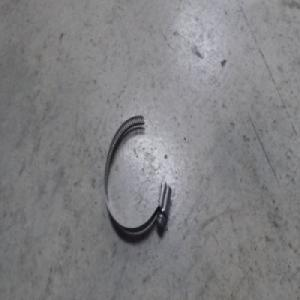AdjustableClamp: (99, 114, 169, 235)
